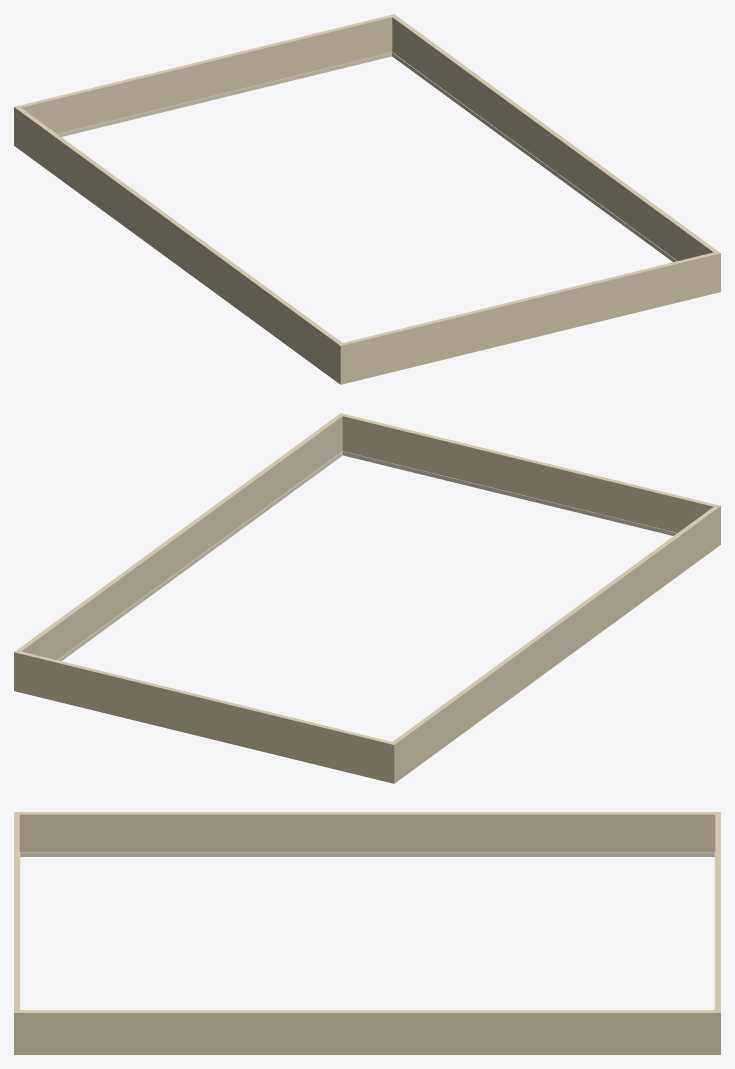
File: Mesh_Walls_Ext.fbx
3 views of the same model, one above another, from view 1: azimuth 30°, elevation 25°; view 2: azimuth 150°, elevation 25°; view 3: azimuth 270°, elevation 25° (orthographic). The views are drawn at different scales.
Parts seen in each view (by area): view 1: Wall_Ext_02; view 2: Wall_Ext_02; view 3: Wall_Ext_02.
Boxes of the visible parts, x1,y1,x2,y2 form: Wall_Ext_02: (14,14,720,384); Wall_Ext_02: (14,413,720,783); Wall_Ext_02: (14,812,720,1054).
Bounding box in the file's own units: 2050 × 200 × 3050.
